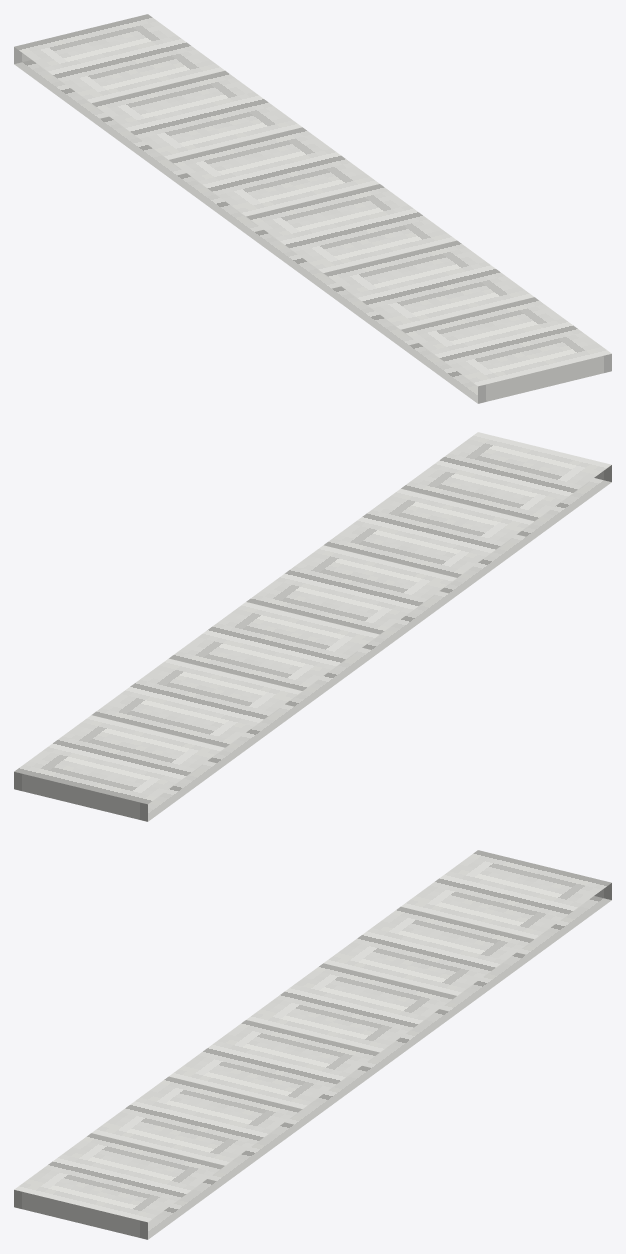
The model's file is white_run_6.obj.
3 views of the same model, one above another, from view 1: azimuth 30°, elevation 25°; view 2: azimuth 150°, elevation 25°; view 3: azimuth 330°, elevation 25° (orthographic).
Parts seen in each view (by area): view 1: run; view 2: run; view 3: run.
Boxes of the visible parts, <box> form: run: <box>14,14,611,403</box>; run: <box>14,432,611,821</box>; run: <box>14,850,611,1239</box>.
Size of the model in its own units: 1 by 0.125 by 6.
